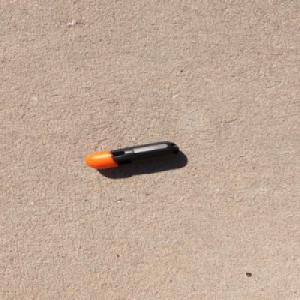PlasticPart: (82, 139, 180, 168)
